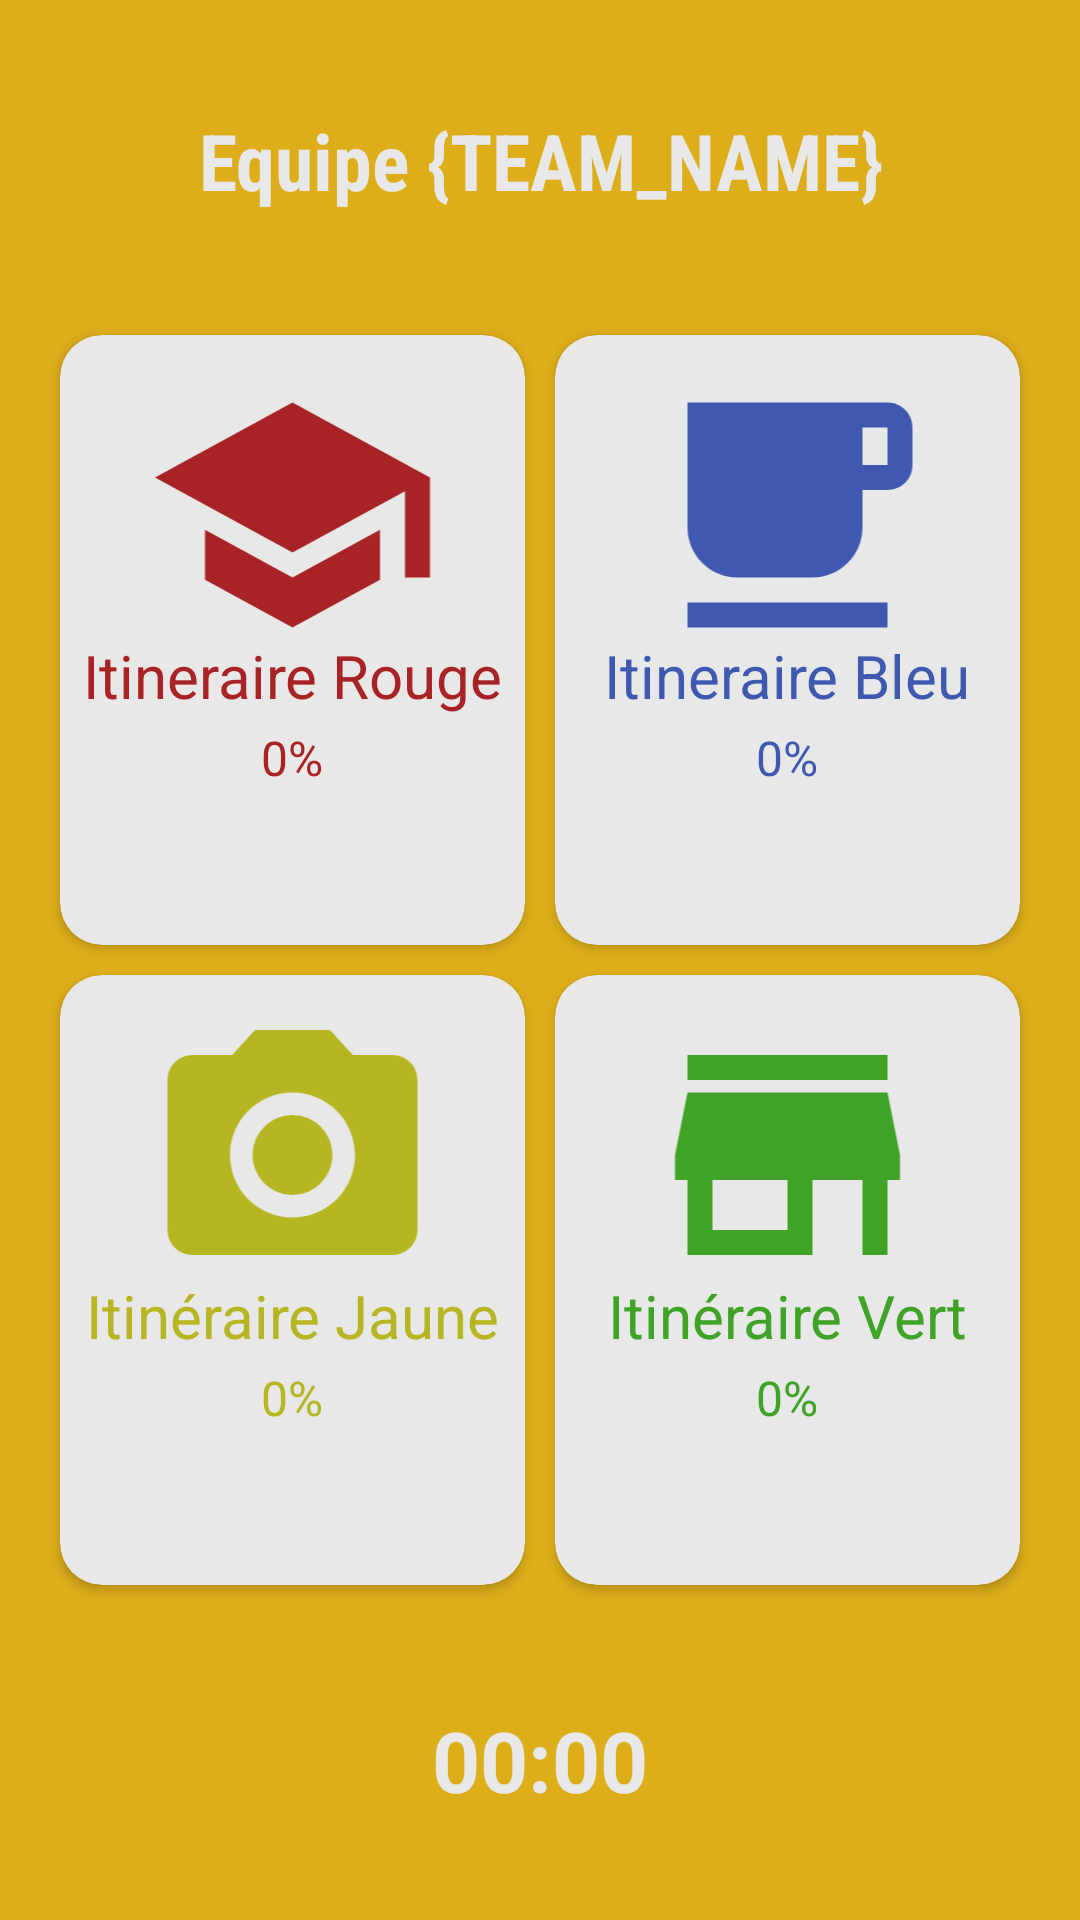

Screen size 1080px×1920px. Icon name, then its center in pixels as (x,y):
camera: (272,1166)
free breakfast: (778,532)
school: (277,532)
store: (774,1179)
